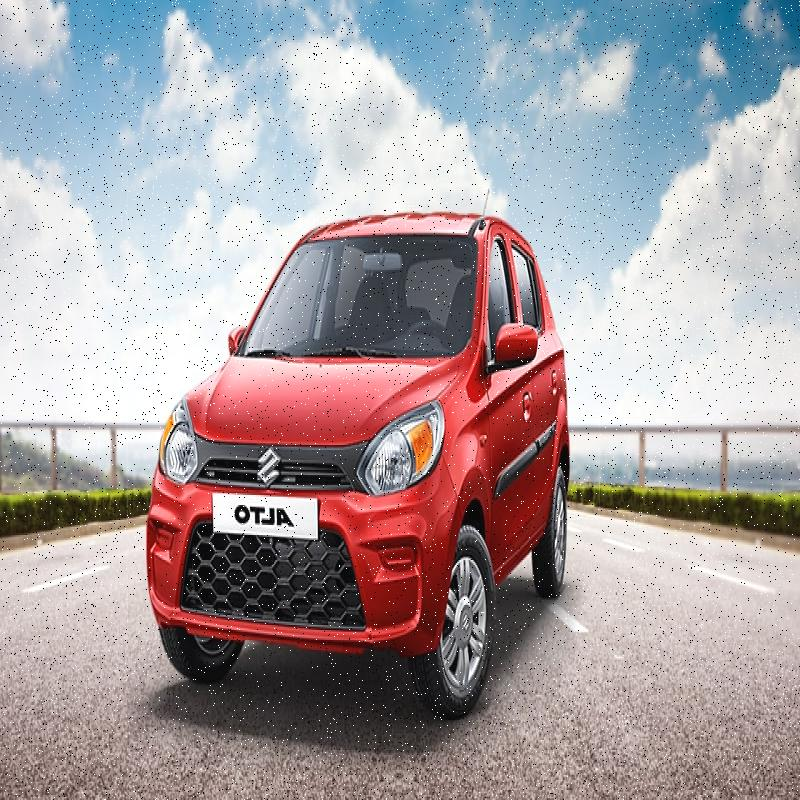car: (147, 174, 572, 682)
